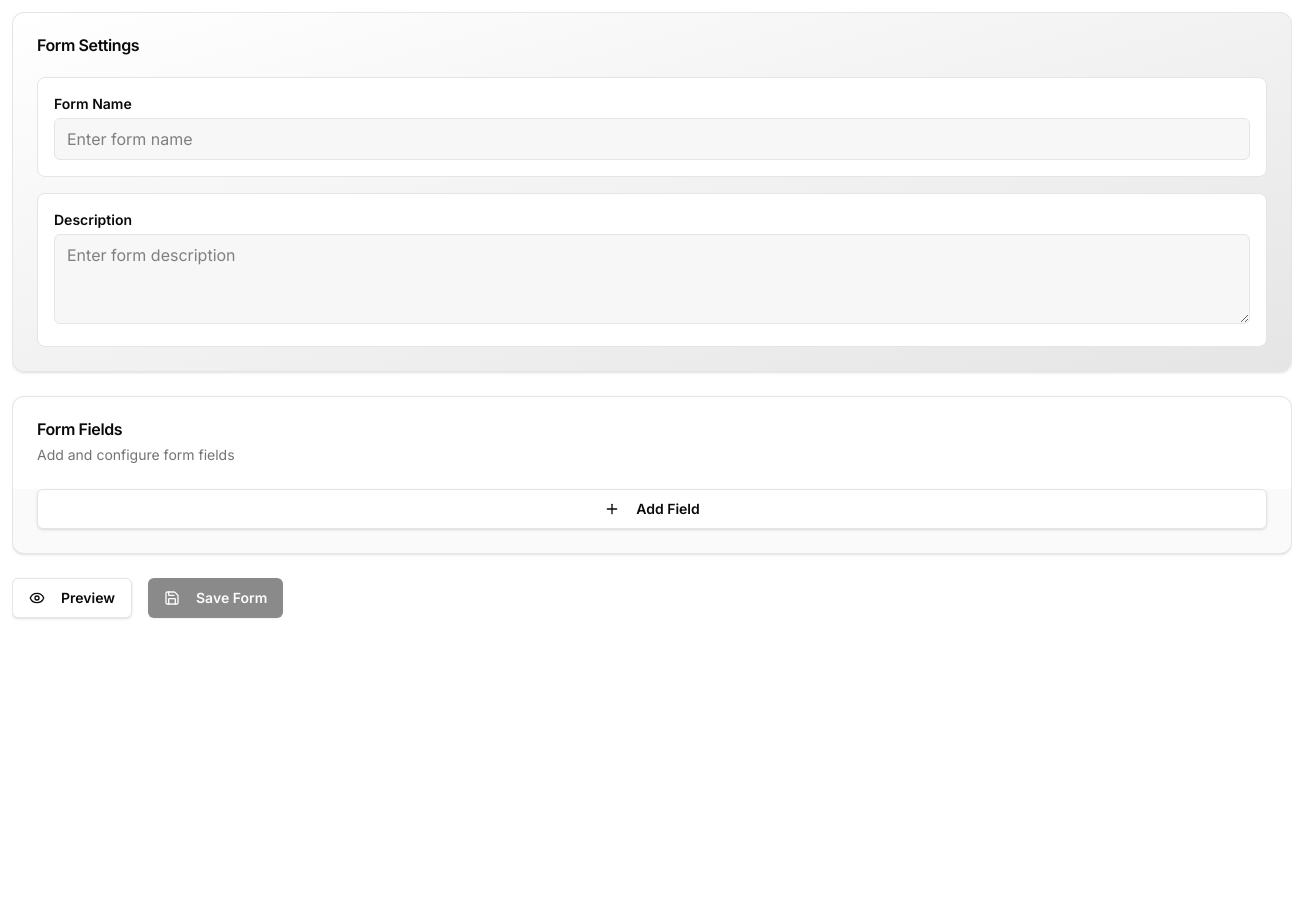
FormBuilderUI › Preview Mode › shows required asterisk in preview
Note: Add required field
Click the button "Add Field": (652, 509) [37,489,1267,529]
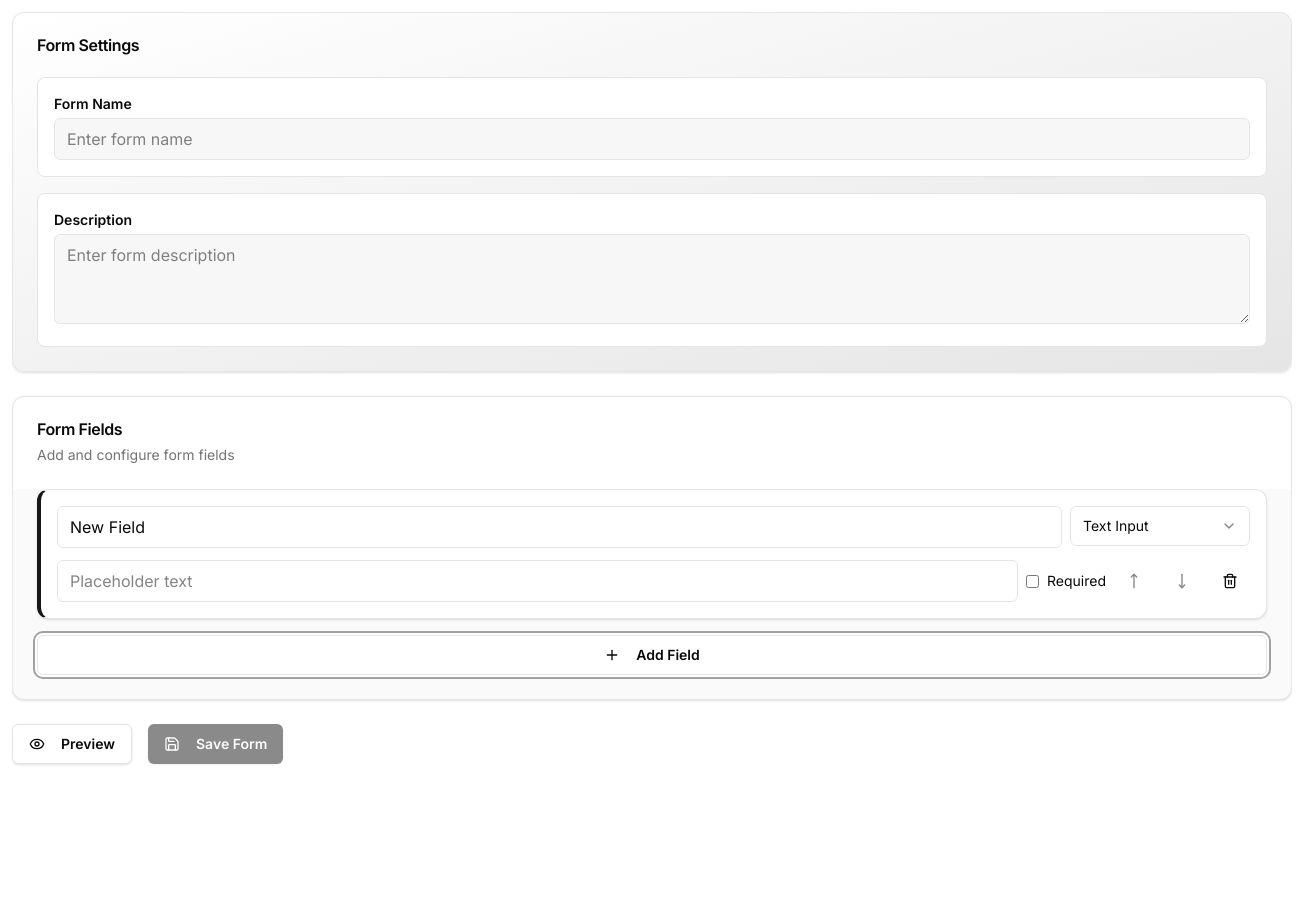
Click the checkbox: (1032, 581) [1026,574,1039,588]
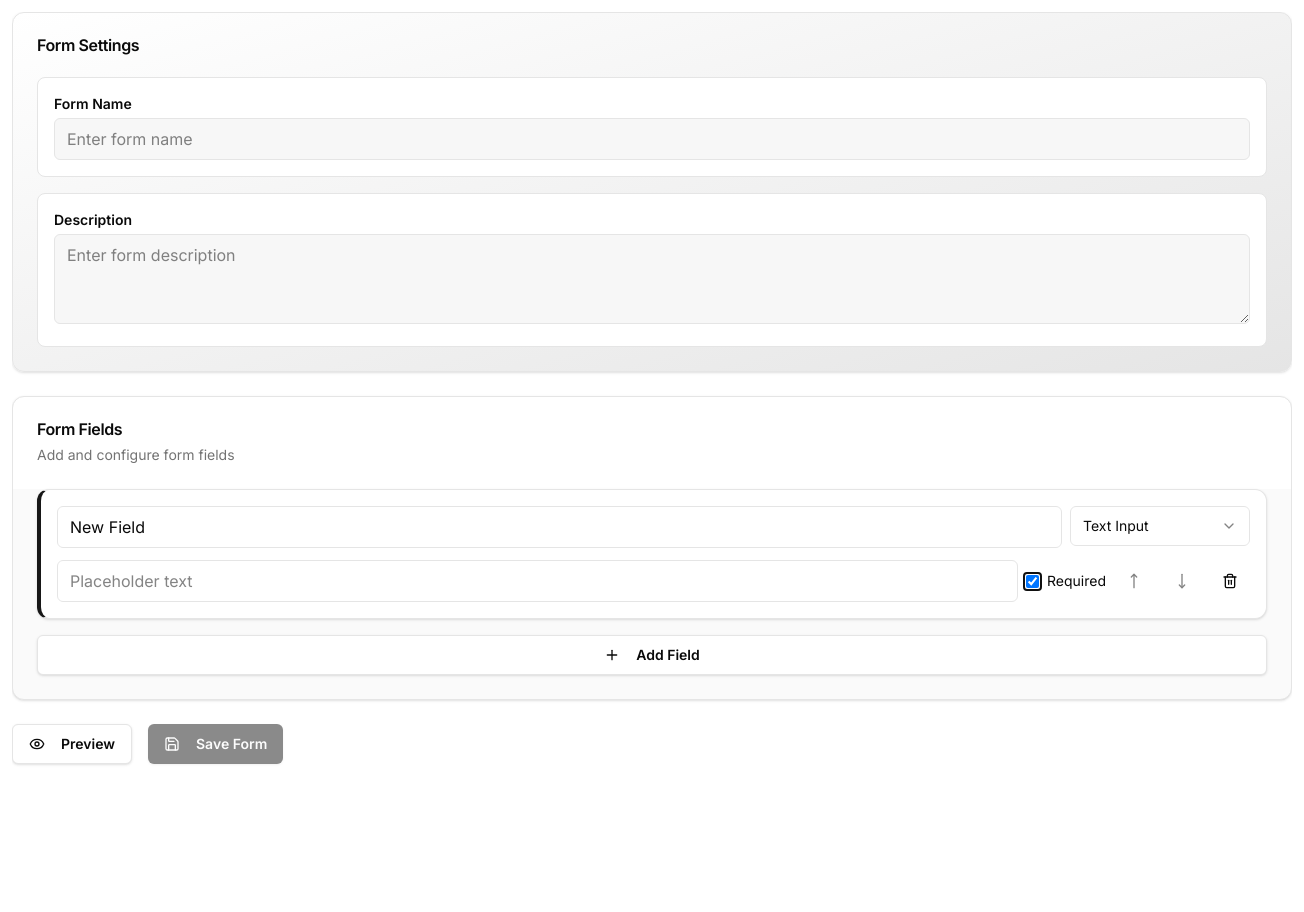
Note: Switch to preview
Click the button "Preview": (72, 744) [12,724,132,764]
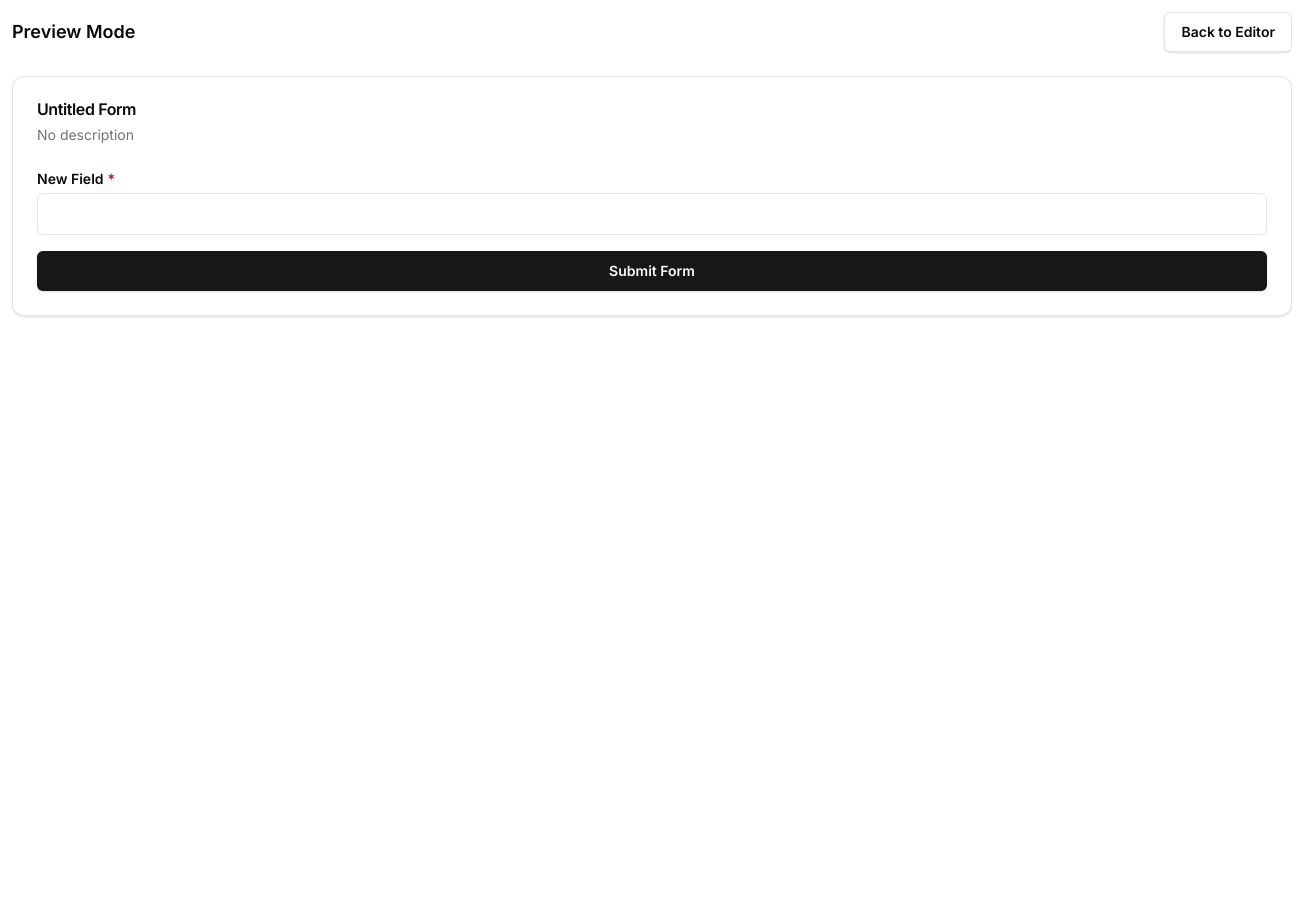
Now the text "*" is shown, box [108,170,115,187]
